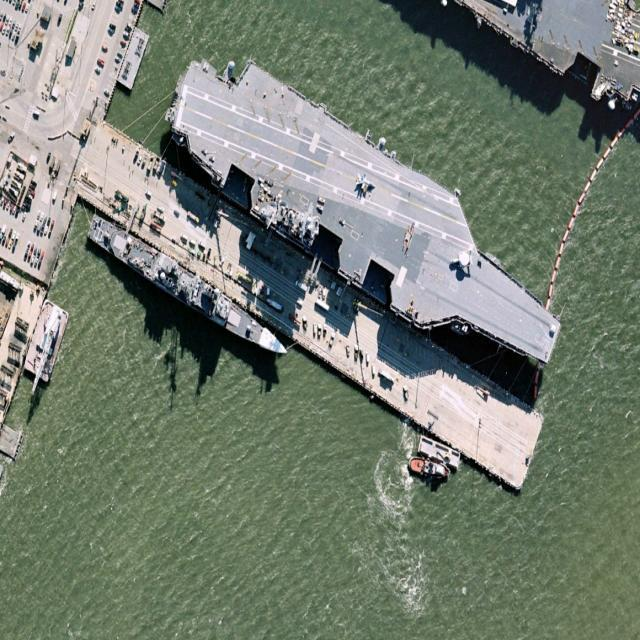Aircraft Carrier: (153, 25, 580, 403)
Cruiser: (84, 208, 293, 366)
Hovercraft: (407, 454, 453, 482)
